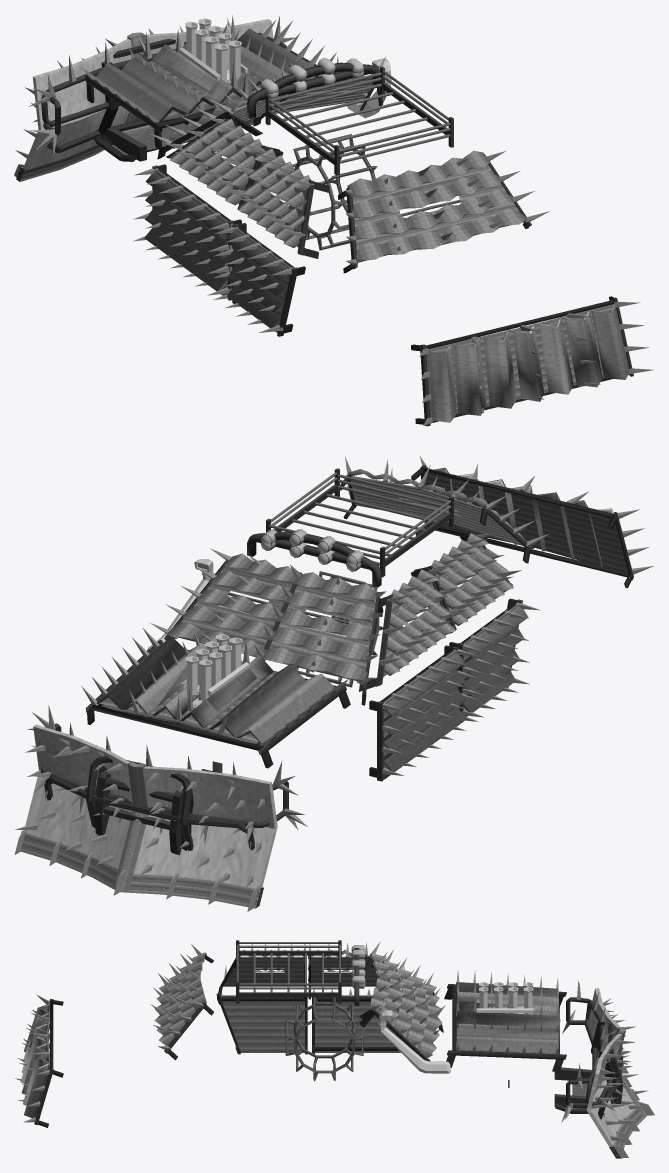
File: CarNormalArmor.fbx
The picture shows the model from 3 angles, top to bottom: view 1: azimuth 30°, elevation 25°; view 2: azimuth 150°, elevation 25°; view 3: azimuth 270°, elevation 25°; orthographic projection. The views are drawn at different scales.
Visible parts, largest first — view 1: trunkreinforcedrear, windowreinforcedrear, plow, hoodreinforcedfront, roofrack, doorfrontreinforcedleft, windowrearreinforcedleft, windowheavyspikedrear, hoodreinforcedfrontscoop, trunkheavyspikedrear, windowfrontreinforcedleft, doorrearreinforcedleft (+21 smaller); view 2: plow, windowreinforcedfront, plow_spiked, hoodreinforcedfront, hoodreinforcedfrontscoop, trunkheavyrear, roofrack, doorfrontreinforcedleft, windowheavyfront, windowrearreinforcedleft, windowfrontreinforcedleft, doorrearreinforcedleft (+23 smaller); view 3: hoodreinforcedfront, hoodreinforcedfrontscoop, plow, windowreinforcedfront, doorrearheavyleft, roofrack, doorfrontheavyleft, windowreinforcedrear, trunkreinforcedrear, chaintires, windowrearheavyleft, doorrearheavyspikedleft (+19 smaller).
Boxes of the visible parts, <box> form: trunkreinforcedrear: <box>426,300,630,423</box>; windowreinforcedrear: <box>347,150,526,260</box>; plow: <box>14,19,273,181</box>; hoodreinforcedfront: <box>96,28,317,148</box>; roofrack: <box>265,66,453,175</box>; doorfrontreinforcedleft: <box>144,168,230,295</box>; windowrearreinforcedleft: <box>238,147,329,258</box>; windowheavyspikedrear: <box>338,151,549,273</box>; hoodreinforcedfrontscoop: <box>96,29,304,146</box>; trunkheavyspikedrear: <box>411,296,653,426</box>; windowfrontreinforcedleft: <box>170,118,261,205</box>; doorrearreinforcedleft: <box>224,227,294,332</box>; plow: <box>14,724,277,911</box>; windowreinforcedfront: <box>168,553,383,681</box>; plow_spiked: <box>15,727,274,887</box>; hoodreinforcedfront: <box>90,637,348,750</box>; hoodreinforcedfrontscoop: <box>90,637,347,750</box>; trunkheavyrear: <box>411,466,633,588</box>; roofrack: <box>266,468,453,577</box>; doorfrontreinforcedleft: <box>380,649,466,779</box>; windowheavyfront: <box>164,560,379,705</box>; windowrearreinforcedleft: <box>414,533,513,630</box>; windowfrontreinforcedleft: <box>384,569,455,675</box>; doorrearreinforcedleft: <box>460,603,528,716</box>; hoodreinforcedfront: <box>448,982,563,1071</box>; hoodreinforcedfrontscoop: <box>449,982,560,1067</box>; plow: <box>585,988,654,1158</box>; windowreinforcedfront: <box>359,953,442,1055</box>; doorrearheavyleft: <box>217,995,307,1054</box>; roofrack: <box>236,940,341,1003</box>; doorfrontheavyleft: <box>312,997,415,1053</box>; windowreinforcedrear: <box>154,952,206,1045</box>; trunkreinforcedrear: <box>20,1001,53,1118</box>; chaintires: <box>285,997,363,1081</box>; windowrearheavyleft: <box>223,958,304,986</box>; doorrearheavyspikedleft: <box>216,991,307,1053</box>.
Bounding box in the file's own units: 278 × 208 × 751.
